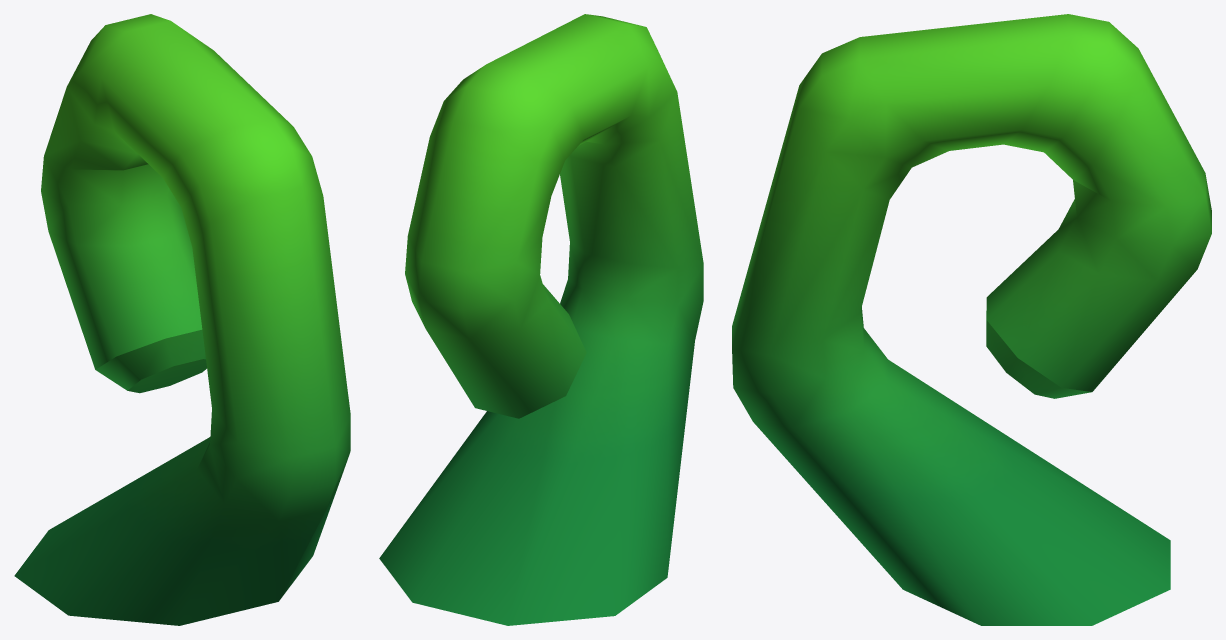
The model's file is Vine_2_1.obj.
3 renders of one model, left to right at view 1: azimuth 30°, elevation 25°; view 2: azimuth 150°, elevation 25°; view 3: azimuth 270°, elevation 25°, orthographic. The views are drawn at different scales.
Parts seen in each view (by area): view 1: Vine_2_1; view 2: Vine_2_1; view 3: Vine_2_1.
Part boxes in pixels (x1,y1,x2,y2): Vine_2_1: (14,14,350,625); Vine_2_1: (379,14,703,625); Vine_2_1: (732,14,1211,625).
Size of the model in its own units: 0.1341 by 0.2766 by 0.2229.
